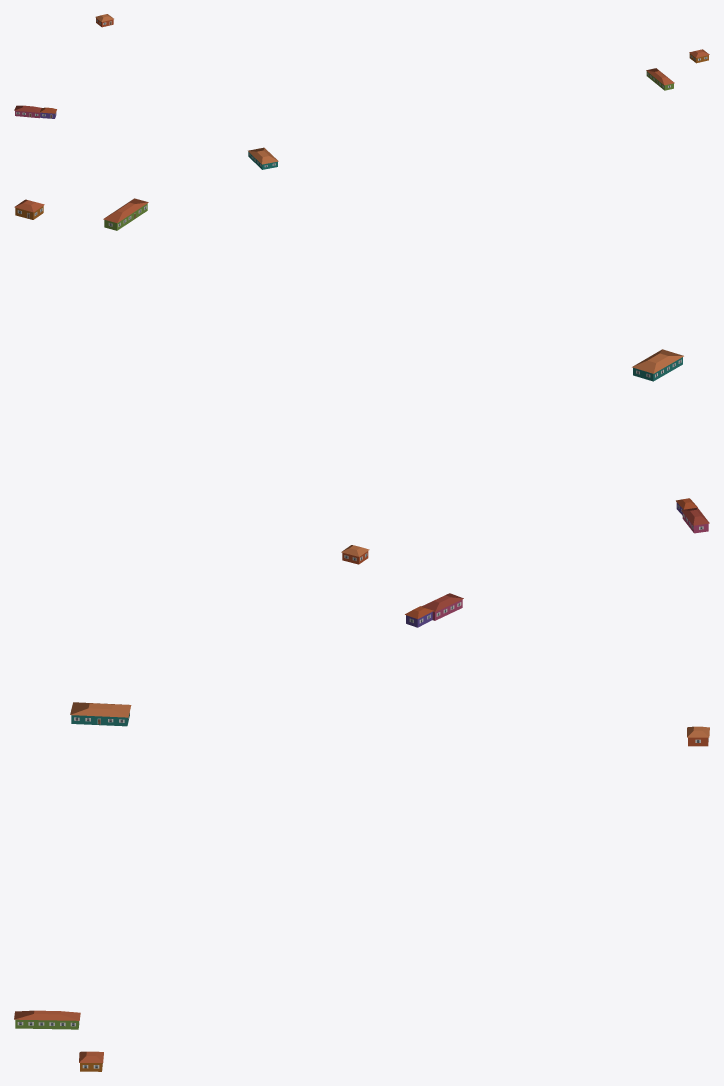
Rendered from msb_oranjestad_m19_m1.glb.
3 views of the same model, one above another, from view 1: azimuth 30°, elevation 25°; view 2: azimuth 150°, elevation 25°; view 3: azimuth 270°, elevation 25° (orthographic). The views are drawn at different scales.
Parts seen in each view (by area): view 1: msb_oranjestad_m19_m1_lod0; view 2: msb_oranjestad_m19_m1_lod0; view 3: msb_oranjestad_m19_m1_lod0.
Part boxes in pixels (box(x1,y1,x2,y2)): msb_oranjestad_m19_m1_lod0: box(14, 14, 709, 169); msb_oranjestad_m19_m1_lod0: box(14, 198, 709, 564); msb_oranjestad_m19_m1_lod0: box(14, 593, 709, 1071).
Size of what is drawn, in the model's own units: 376 by 7.49 by 238.
Materials: 2 (1 with a texture image).
